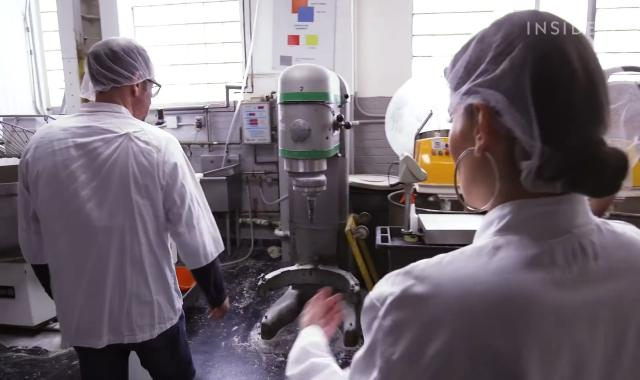hairnet: (444, 8, 627, 197), (77, 36, 155, 90)
